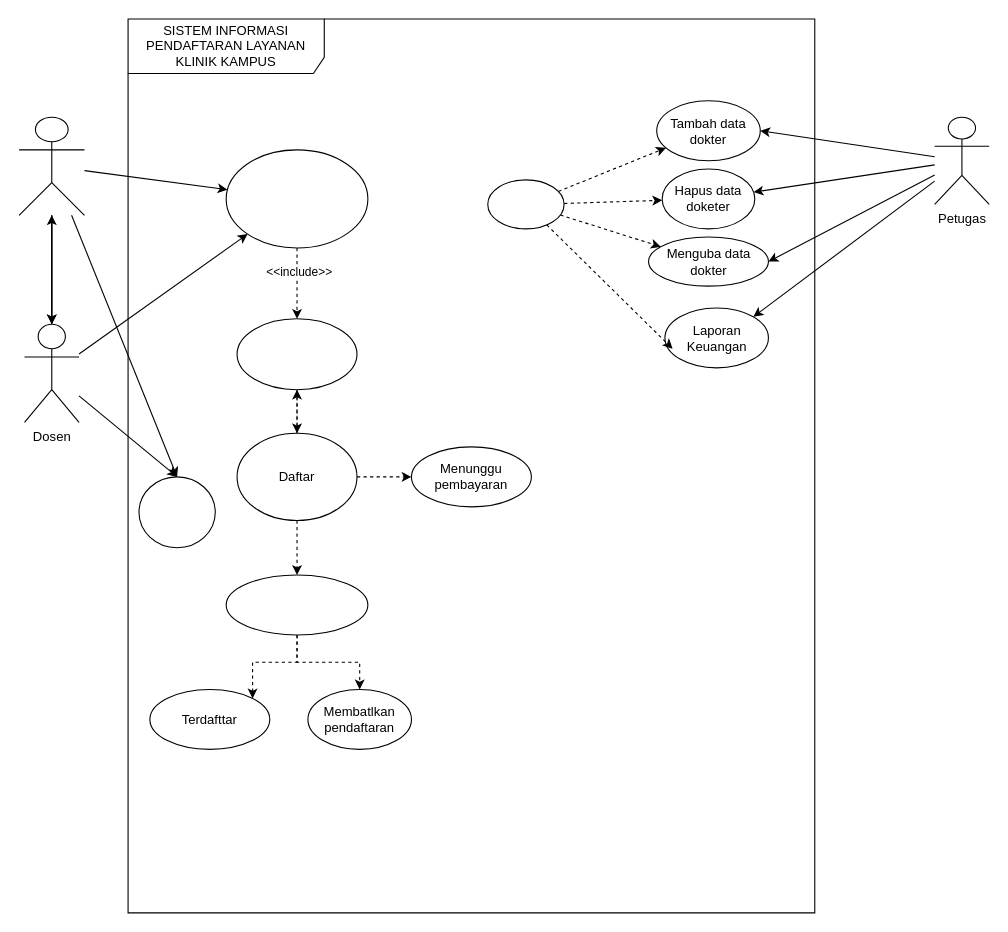
Image size: 1008x932. Some labels were removed from this diagram. The centre of each missing label's shape, as x and y in pixels:
Login: point 525,204
Mahaiswa: point 51,165
Melihat jadwal dokter: point 296,198
Memeiksa ketersediaan jadwal: point 296,354
Memerksa ketersediaan jadwal: point 296,604
Riwayat kunjugann: point 176,512
